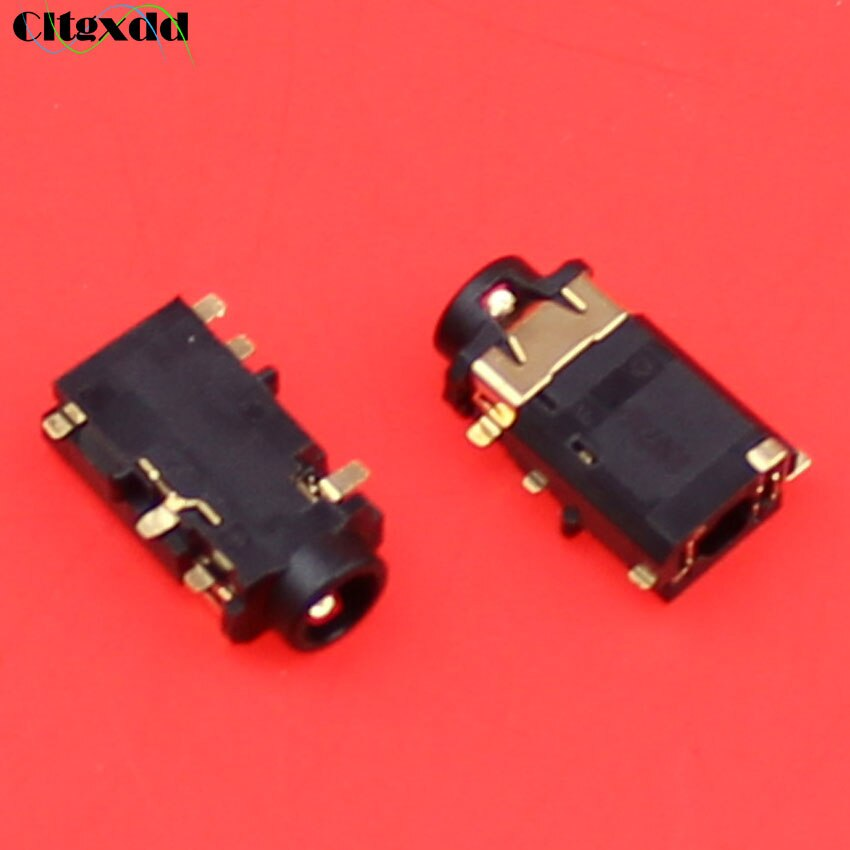aud: (41, 250, 394, 650), (418, 250, 811, 569)
